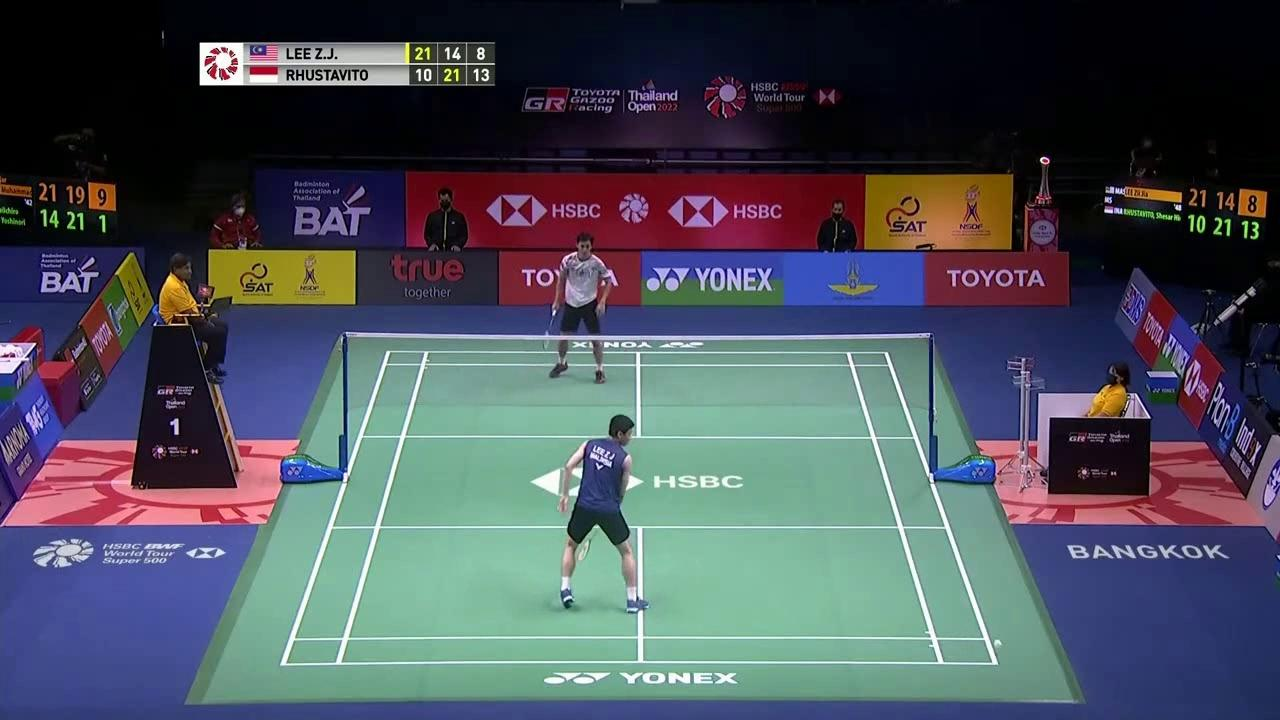racket: (577, 524, 601, 563), (543, 309, 556, 349)
shuttle: (993, 639, 1004, 650)
